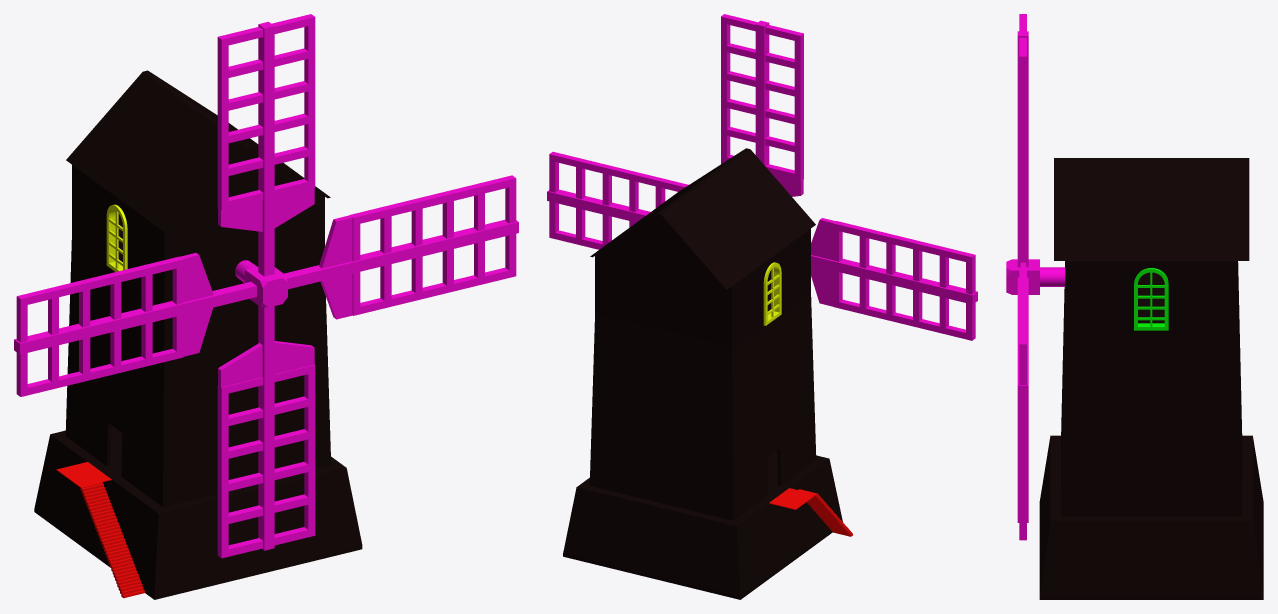
The model's file is Windmill.FBX.
The picture shows the model from 3 angles, left to right: view 1: azimuth 30°, elevation 25°; view 2: azimuth 150°, elevation 25°; view 3: azimuth 270°, elevation 25°; orthographic projection. The views are drawn at different scales.
Parts seen in each view (by area): view 1: Windmill_mill, Windmill, Stairs, Stone_window_01; view 2: Windmill_mill, Windmill, Stairs, Stone_window_01; view 3: Windmill_mill, Windmill, Stone_window_02.
Boxes of the visible parts, x1,y1,x2,y2 form: Windmill_mill: [34, 70, 362, 599]; Windmill: [14, 14, 518, 558]; Stairs: [56, 462, 144, 598]; Stone_window_01: [106, 204, 127, 271]; Windmill_mill: [563, 148, 842, 599]; Windmill: [547, 14, 977, 340]; Stairs: [769, 488, 852, 536]; Stone_window_01: [763, 262, 781, 325]; Windmill_mill: [1039, 158, 1263, 599]; Windmill: [1006, 14, 1065, 540]; Stone_window_02: [1134, 268, 1168, 330].
Size of the model in its own units: 23.99 by 25.55 by 11.49.
